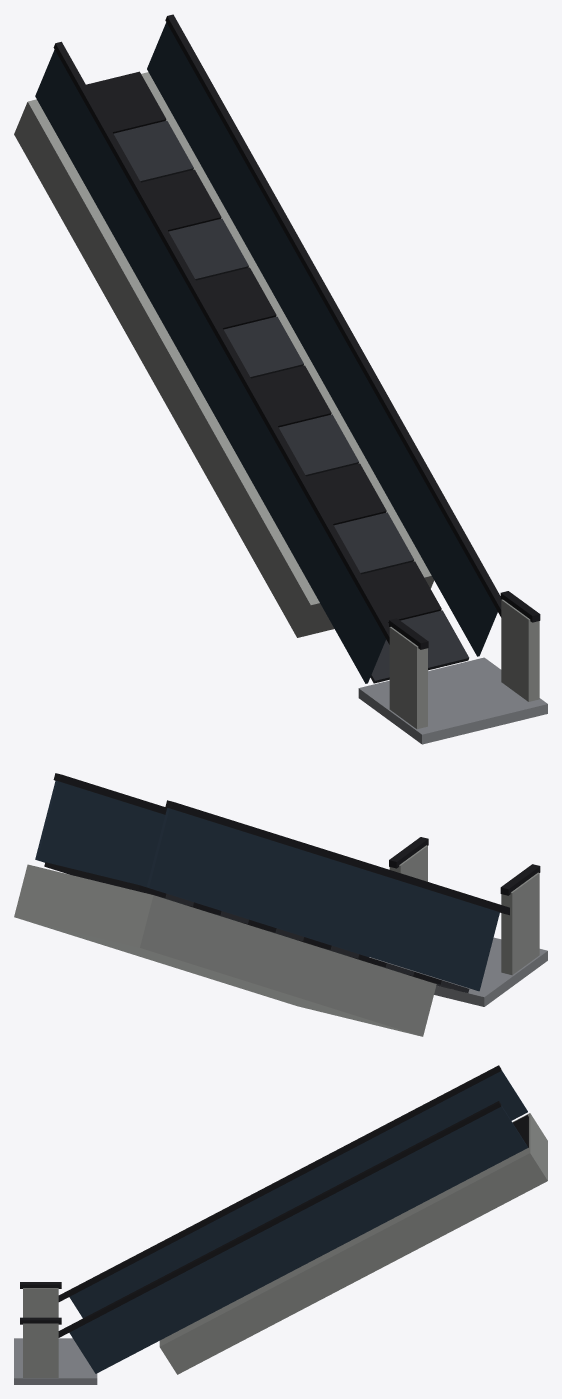
File: prop_escalator.1a03e17c580c.glb
The picture shows the model from 3 angles, top to bottom: view 1: azimuth 30°, elevation 25°; view 2: azimuth 150°, elevation 25°; view 3: azimuth 270°, elevation 25°; orthographic projection. The views are drawn at different scales.
Visible parts, largest first — view 1: body; view 2: body; view 3: body.
Part boxes in pixels (x1,y1,x2,y2): body: (14, 14, 547, 744); body: (14, 773, 547, 1036); body: (14, 1065, 547, 1384).
Bounding box in the file's own units: 1.6 × 5.21 × 8.98.
